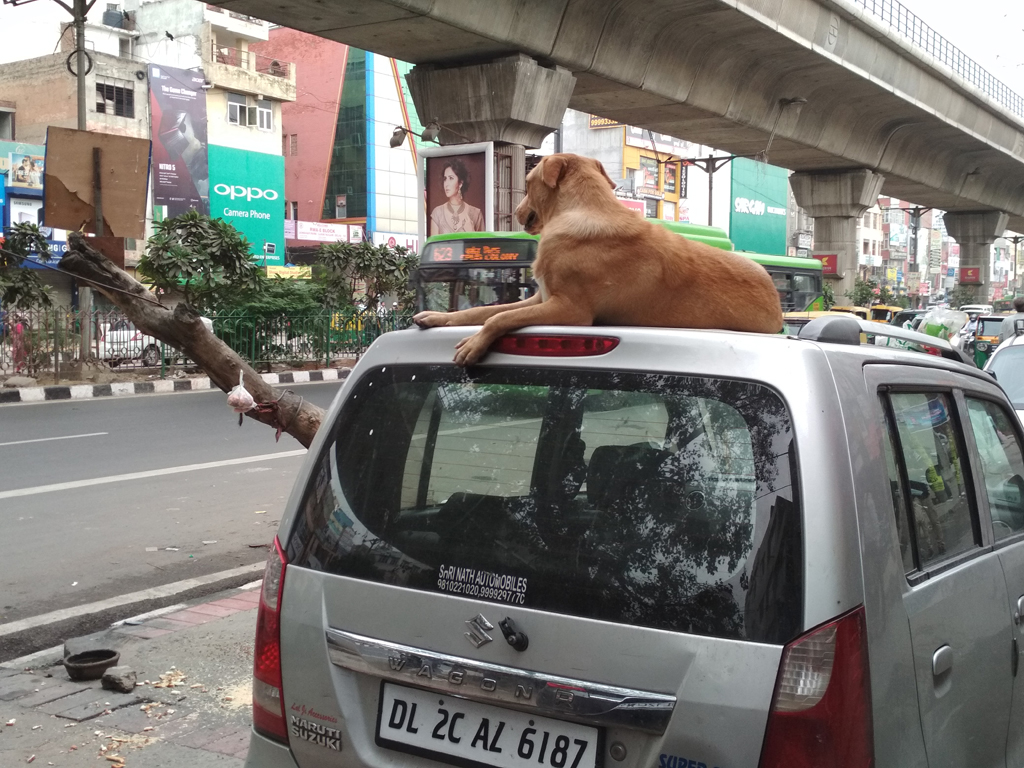dog: (410, 154, 785, 363)
